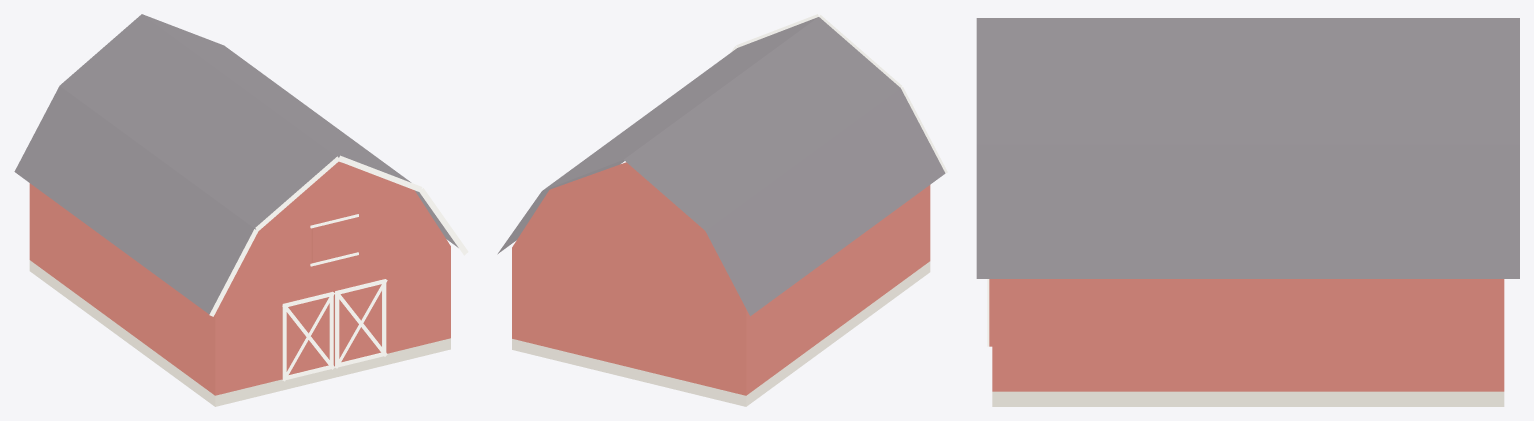
The model's file is Blender_Barn.glb.
The picture shows the model from 3 angles, left to right: view 1: azimuth 30°, elevation 25°; view 2: azimuth 150°, elevation 25°; view 3: azimuth 270°, elevation 25°; orthographic projection. The views are drawn at different scales.
Visible parts, largest first — view 1: Blender_Barn; view 2: Blender_Barn; view 3: Blender_Barn.
Boxes of the visible parts, x1,y1,x2,y2 form: Blender_Barn: (14,14,468,406); Blender_Barn: (497,14,947,406); Blender_Barn: (976,18,1519,406).
Bounding box in the file's own units: 12.1 × 10.1 × 15.92.
